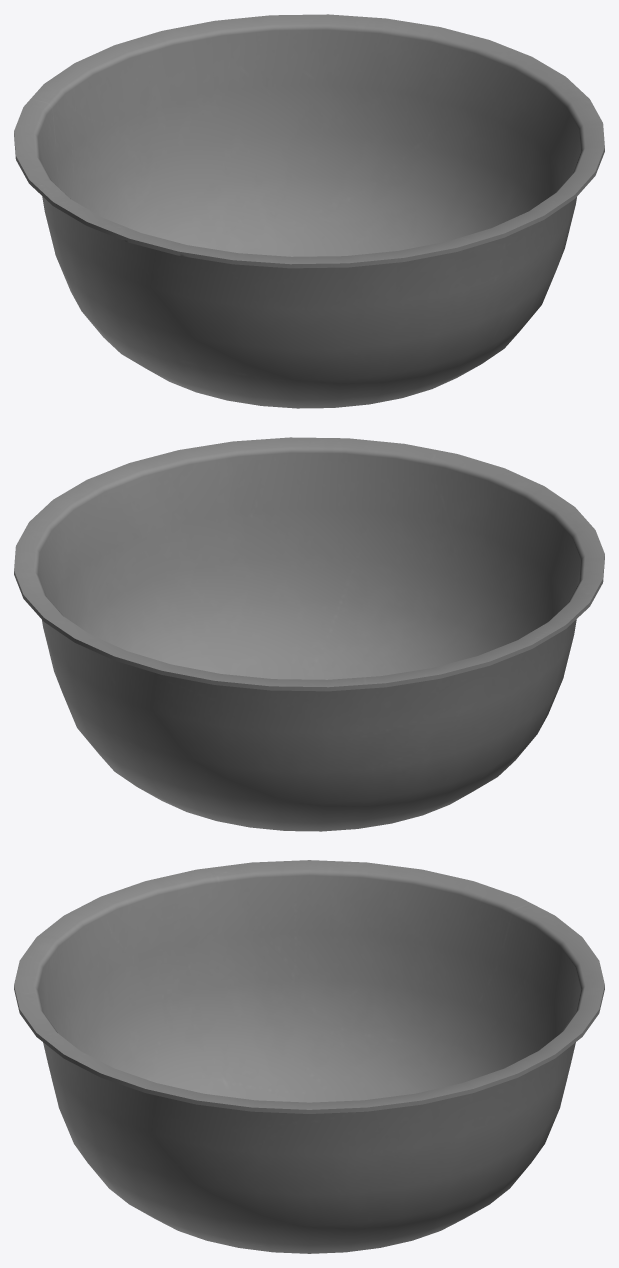
File: Bowl_02.FBX
3 views of the same model, one above another, from view 1: azimuth 30°, elevation 25°; view 2: azimuth 150°, elevation 25°; view 3: azimuth 270°, elevation 25° (orthographic).
Parts seen in each view (by area): view 1: Bowl_02; view 2: Bowl_02; view 3: Bowl_02.
Boxes of the visible parts, x1,y1,x2,y2 form: Bowl_02: (14,14,604,408); Bowl_02: (14,437,604,831); Bowl_02: (14,860,604,1253).
Size of the model in its own units: 23.31 by 9.2 by 23.3.
1 material, 1 textured.
